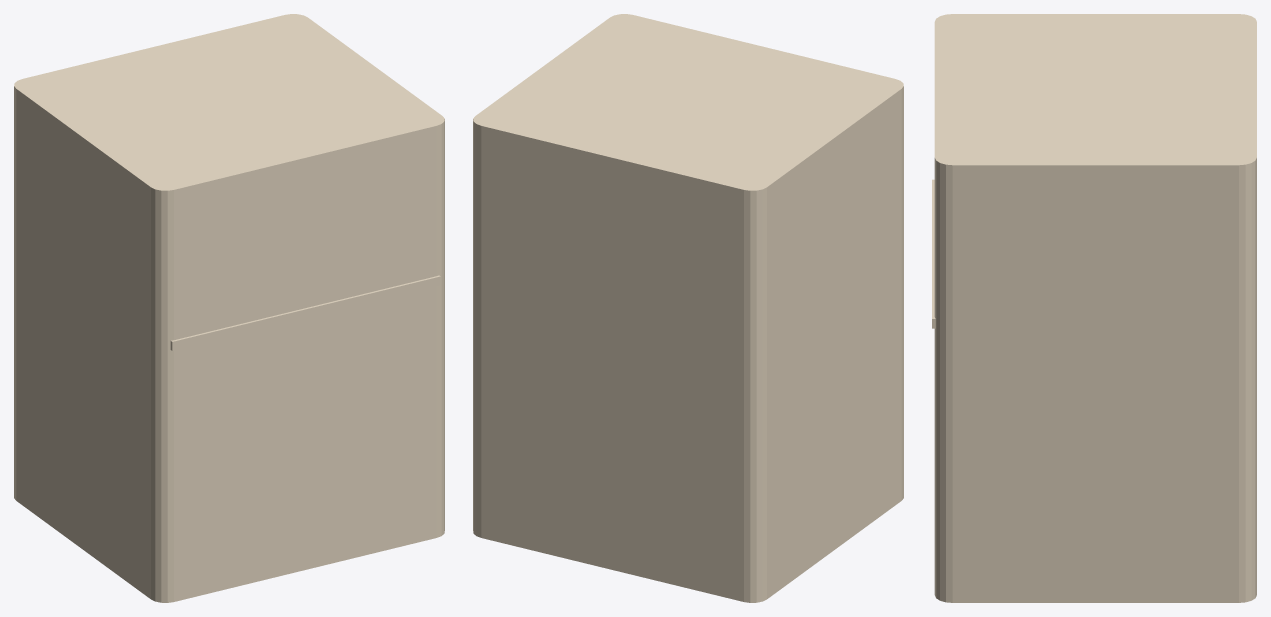
The model's file is leo-short-plinth-light-oak.glb.
3 views of the same model, side by side, from view 1: azimuth 30°, elevation 25°; view 2: azimuth 150°, elevation 25°; view 3: azimuth 270°, elevation 25° (orthographic). The views are drawn at different scales.
Visible parts, largest first — view 1: geometry_0; view 2: geometry_0; view 3: geometry_0.
Part boxes in pixels (x1=…): geometry_0: x1=14, y1=14, x2=444, y2=602; geometry_0: x1=473, y1=14, x2=903, y2=602; geometry_0: x1=932, y1=14, x2=1256, y2=602.
Bounding box in the file's own units: 0.4 × 0.55 × 0.363.
